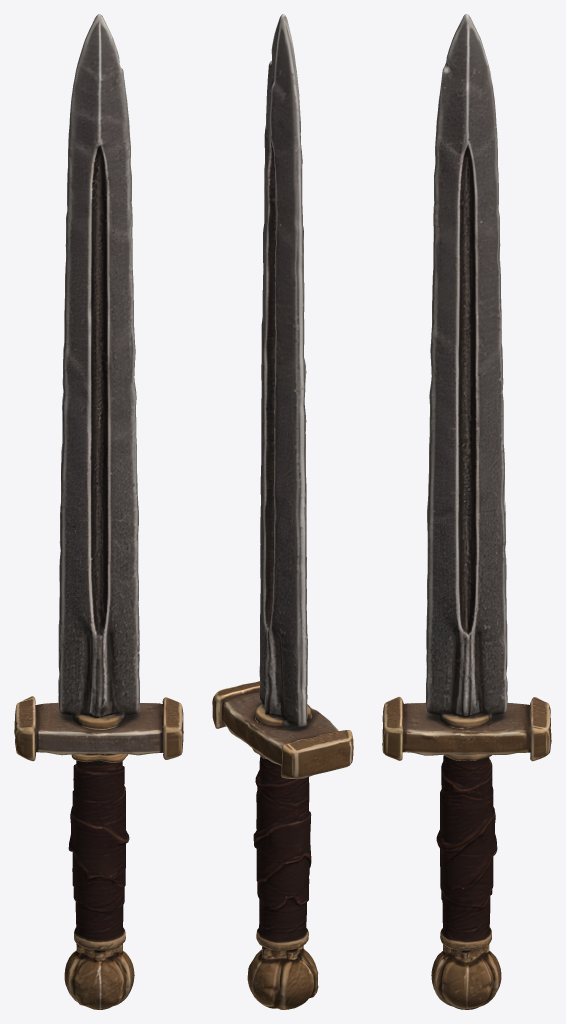
The model's file is look-weapon2-t0-tripo.glb.
3 renders of one model, left to right at view 1: azimuth 90°, elevation 25°; view 2: azimuth 210°, elevation 25°; view 3: azimuth 270°, elevation 25°, orthographic.
Parts seen in each view (by area): view 1: tripo_node_0a4b7a1b-a0d5-4e31-af31-a17f9c7055d1; view 2: tripo_node_0a4b7a1b-a0d5-4e31-af31-a17f9c7055d1; view 3: tripo_node_0a4b7a1b-a0d5-4e31-af31-a17f9c7055d1.
Boxes of the visible parts, x1,y1,x2,y2 form: tripo_node_0a4b7a1b-a0d5-4e31-af31-a17f9c7055d1: (14,14,183,1009); tripo_node_0a4b7a1b-a0d5-4e31-af31-a17f9c7055d1: (212,14,353,1009); tripo_node_0a4b7a1b-a0d5-4e31-af31-a17f9c7055d1: (382,14,551,1009).
Size of the model in its own units: 0.0734 by 1 by 0.1546.
Materials: 1 (1 with a texture image).
